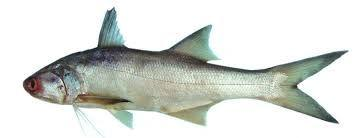Fourfinger Threadfish: (23, 7, 349, 129)
